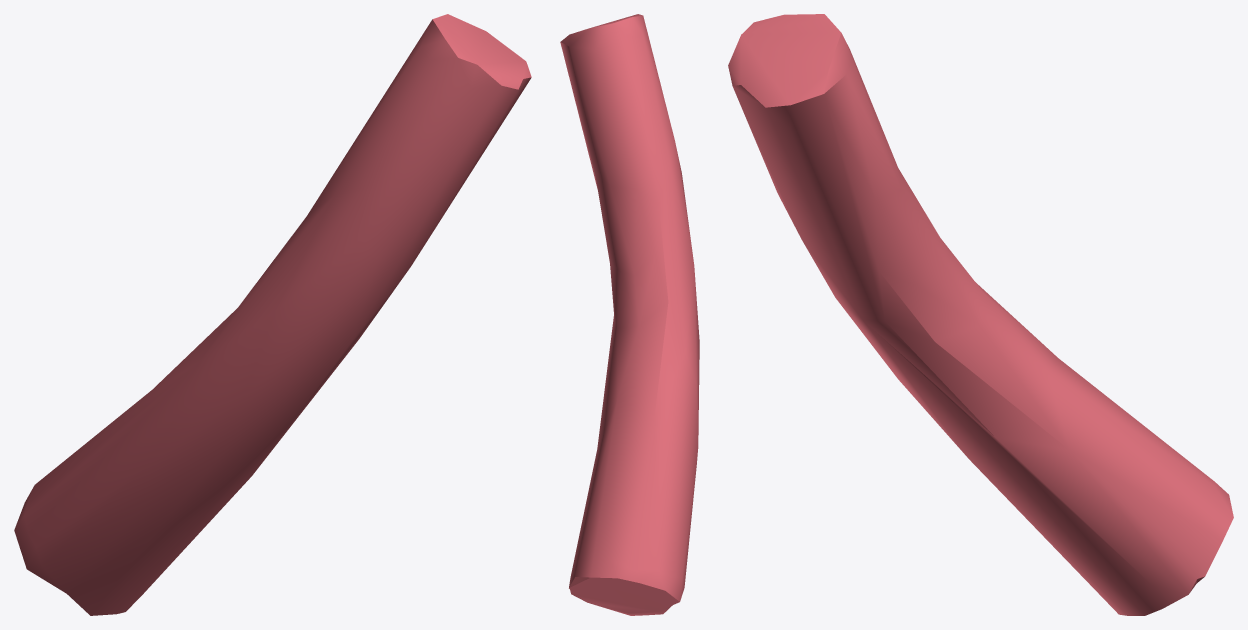
The model's file is fma8617_fj6081.glb.
The picture shows the model from 3 angles, left to right: view 1: azimuth 30°, elevation 25°; view 2: azimuth 150°, elevation 25°; view 3: azimuth 270°, elevation 25°; orthographic projection. The views are drawn at different scales.
Visible parts, largest first — view 1: FMA8617_FJ6081; view 2: FMA8617_FJ6081; view 3: FMA8617_FJ6081.
Boxes of the visible parts, x1,y1,x2,y2 form: FMA8617_FJ6081: [14, 14, 531, 615]; FMA8617_FJ6081: [560, 14, 699, 615]; FMA8617_FJ6081: [728, 14, 1233, 615].
Size of the model in its own units: 0.00429 by 0.00824 by 0.00551.
